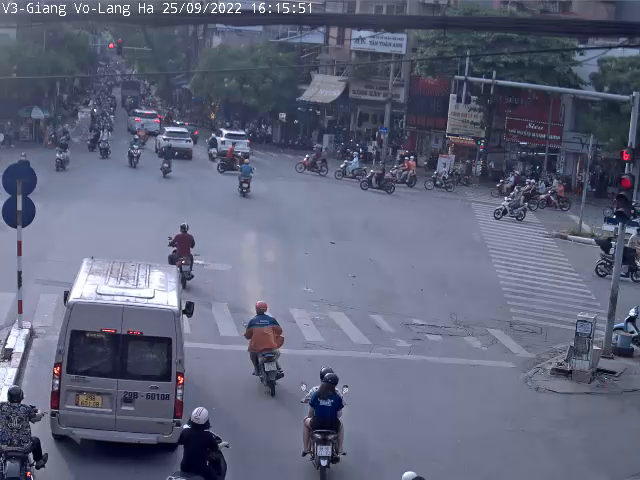người trên xe: (297, 368, 357, 480), (244, 295, 297, 404), (0, 383, 59, 480), (170, 406, 235, 480), (162, 223, 204, 290), (155, 143, 183, 184), (234, 160, 257, 201)
